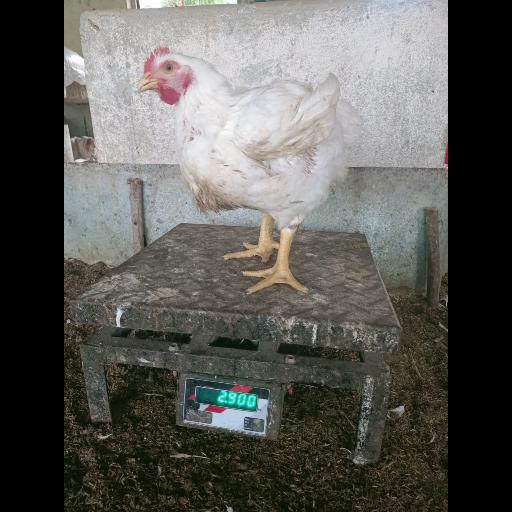chick: (137, 45, 364, 292)
